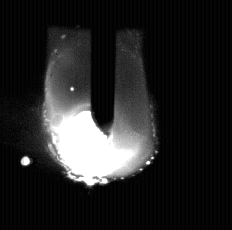arame: (92, 0, 115, 141)
poca: (47, 0, 152, 230)
